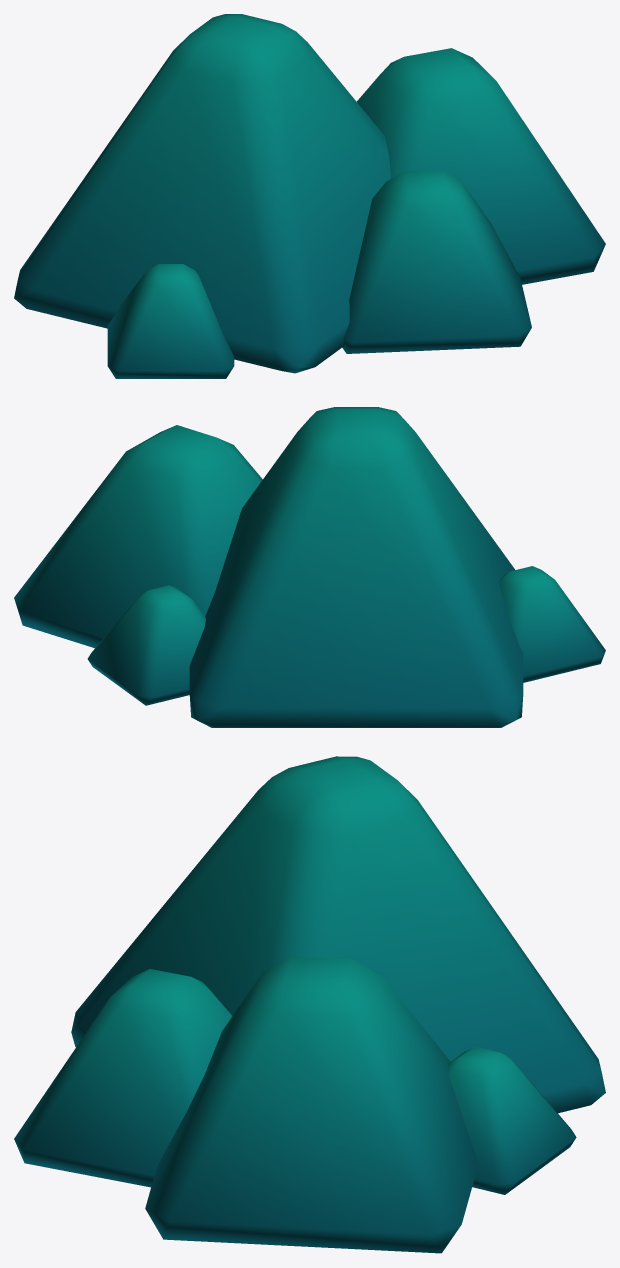
File: Bush_4_E_Color4.fbx
3 views of the same model, one above another, from view 1: azimuth 30°, elevation 25°; view 2: azimuth 150°, elevation 25°; view 3: azimuth 270°, elevation 25° (orthographic). The views are drawn at different scales.
Visible parts, largest first — view 1: Bush_4_E_Color4; view 2: Bush_4_E_Color4; view 3: Bush_4_E_Color4.
Part boxes in pixels (x1,y1,x2,y2): Bush_4_E_Color4: (14,14,605,378); Bush_4_E_Color4: (14,407,605,727); Bush_4_E_Color4: (14,756,605,1253).
Bounding box in the file's own units: 2.7 × 1.3 × 2.28.
